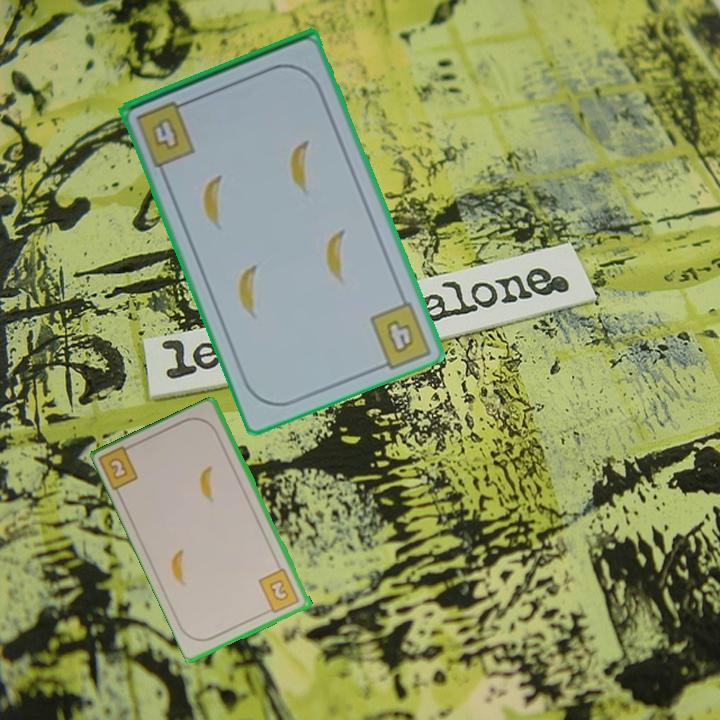2b: (255, 565, 303, 616), (97, 440, 141, 494)
4b: (132, 96, 199, 170), (383, 316, 418, 357)
